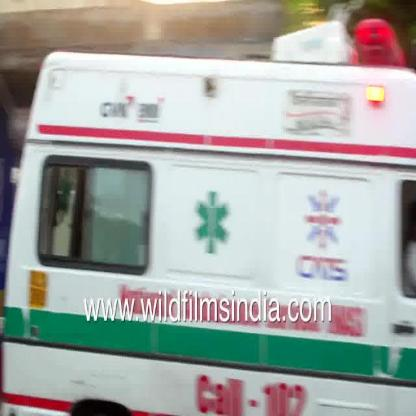priority: (0, 16, 416, 294), (0, 328, 416, 416)
